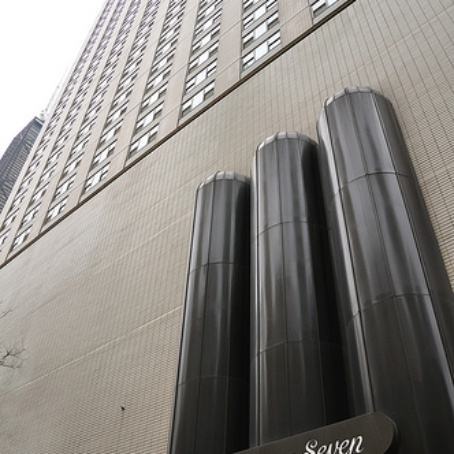building: (5, 1, 454, 449)
